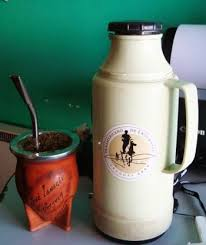mate: (9, 129, 81, 231)
